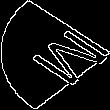M_SE: (7, 20, 103, 90)
